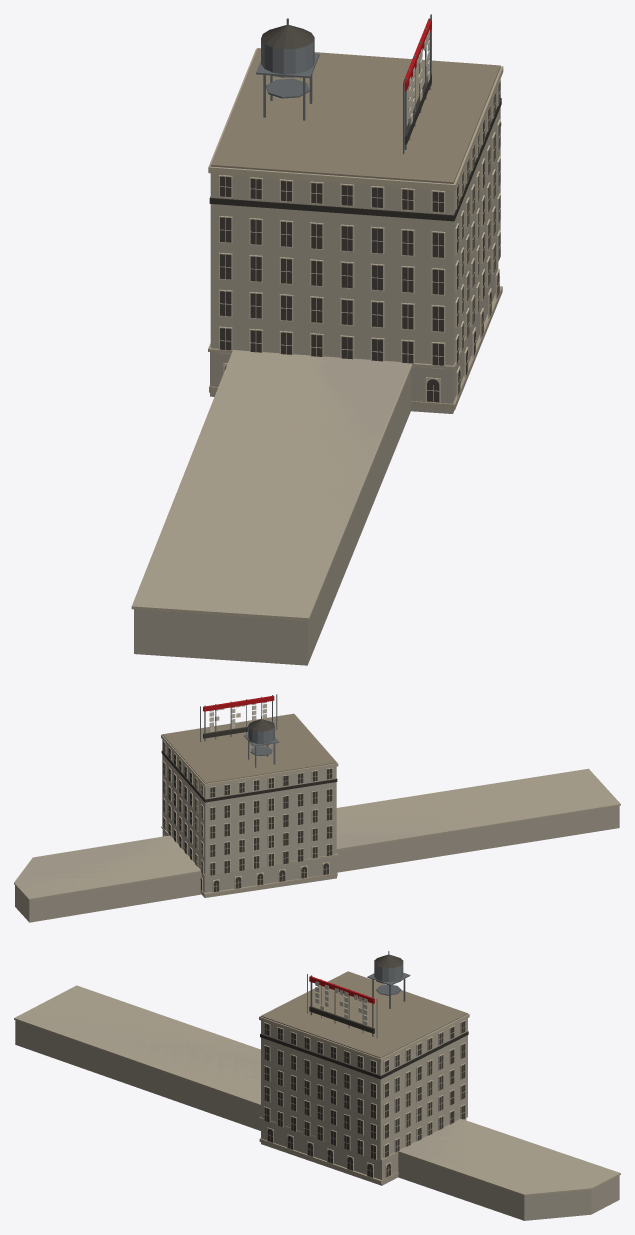
Rendered from cookie-factory-lofts.glb.
The picture shows the model from 3 angles, top to bottom: view 1: azimuth 30°, elevation 25°; view 2: azimuth 150°, elevation 25°; view 3: azimuth 270°, elevation 25°; orthographic projection. The views are drawn at different scales.
Parts seen in each view (by area): view 1: wings; view 2: wings; view 3: wings.
Boxes of the visible parts, x1,y1,x2,y2 form: wings: (131,14,503,665); wings: (14,694,620,922); wings: (14,951,620,1220).
Bounding box in the file's own units: 142 × 56.9 × 175.
